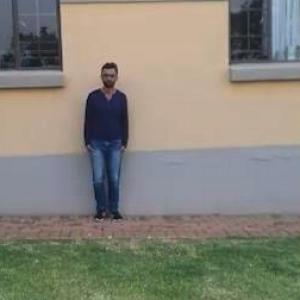follow: (82, 60, 130, 220)
